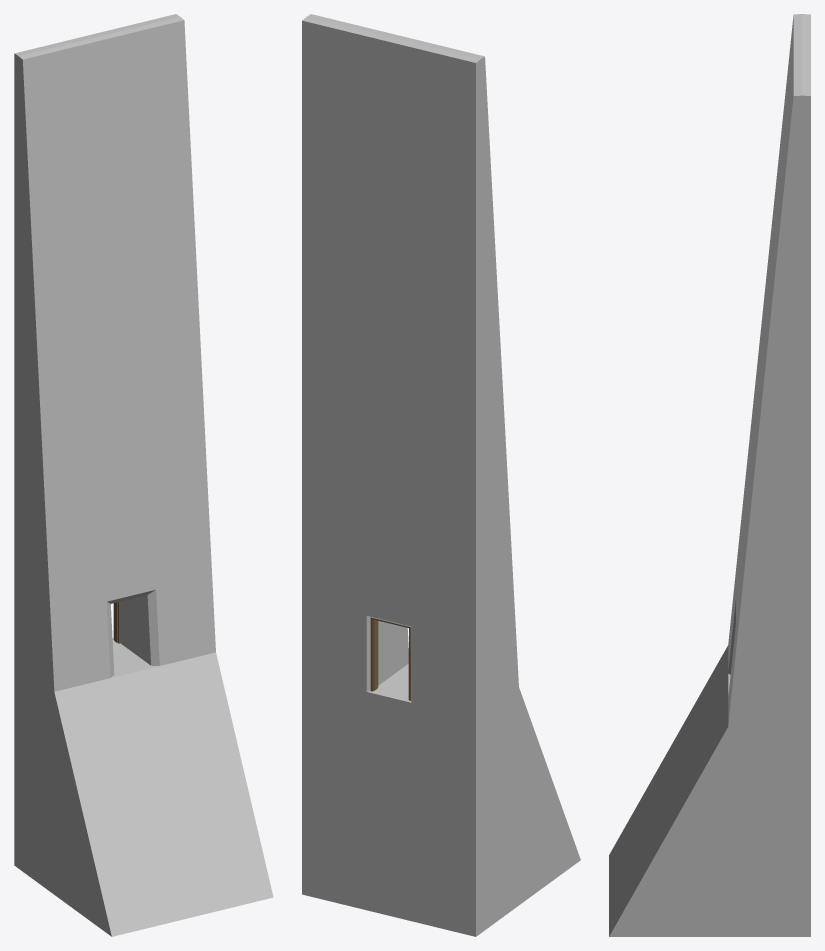
File: SM_Bld_Wall_Fort_L_02_Door_01.fbx
The picture shows the model from 3 angles, left to right: view 1: azimuth 30°, elevation 25°; view 2: azimuth 150°, elevation 25°; view 3: azimuth 270°, elevation 25°; orthographic projection. The views are drawn at different scales.
Parts seen in each view (by area): view 1: SM_Bld_Wall_Fort_L_02_Door_01; view 2: SM_Bld_Wall_Fort_L_02_Door_01; view 3: SM_Bld_Wall_Fort_L_02_Door_01.
Boxes of the visible parts, bbox=[...] form: SM_Bld_Wall_Fort_L_02_Door_01: bbox=[14, 14, 273, 936]; SM_Bld_Wall_Fort_L_02_Door_01: bbox=[302, 14, 580, 936]; SM_Bld_Wall_Fort_L_02_Door_01: bbox=[609, 14, 810, 936].
Size of the model in its own units: 500 by 2401 by 522.
